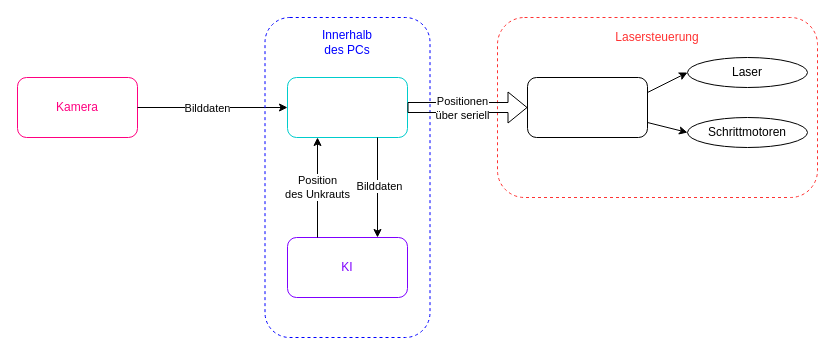
This 835x355 diagram has some shape labels left out. Each missing label, with the box of its shape:
Microcontroller (ESP32): (526, 76, 648, 138)
ROS: (286, 76, 408, 138)
